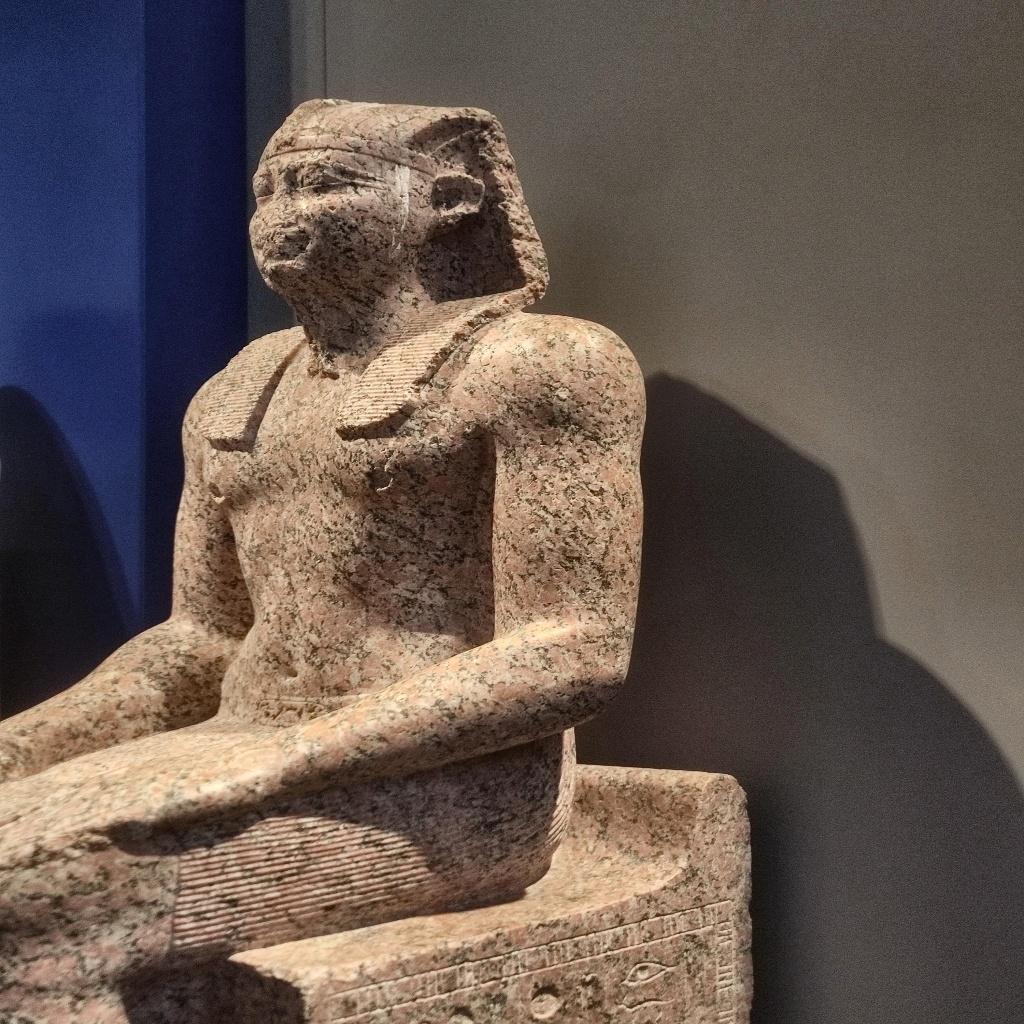Statue of Amenmhat I: (0, 87, 652, 1016)
